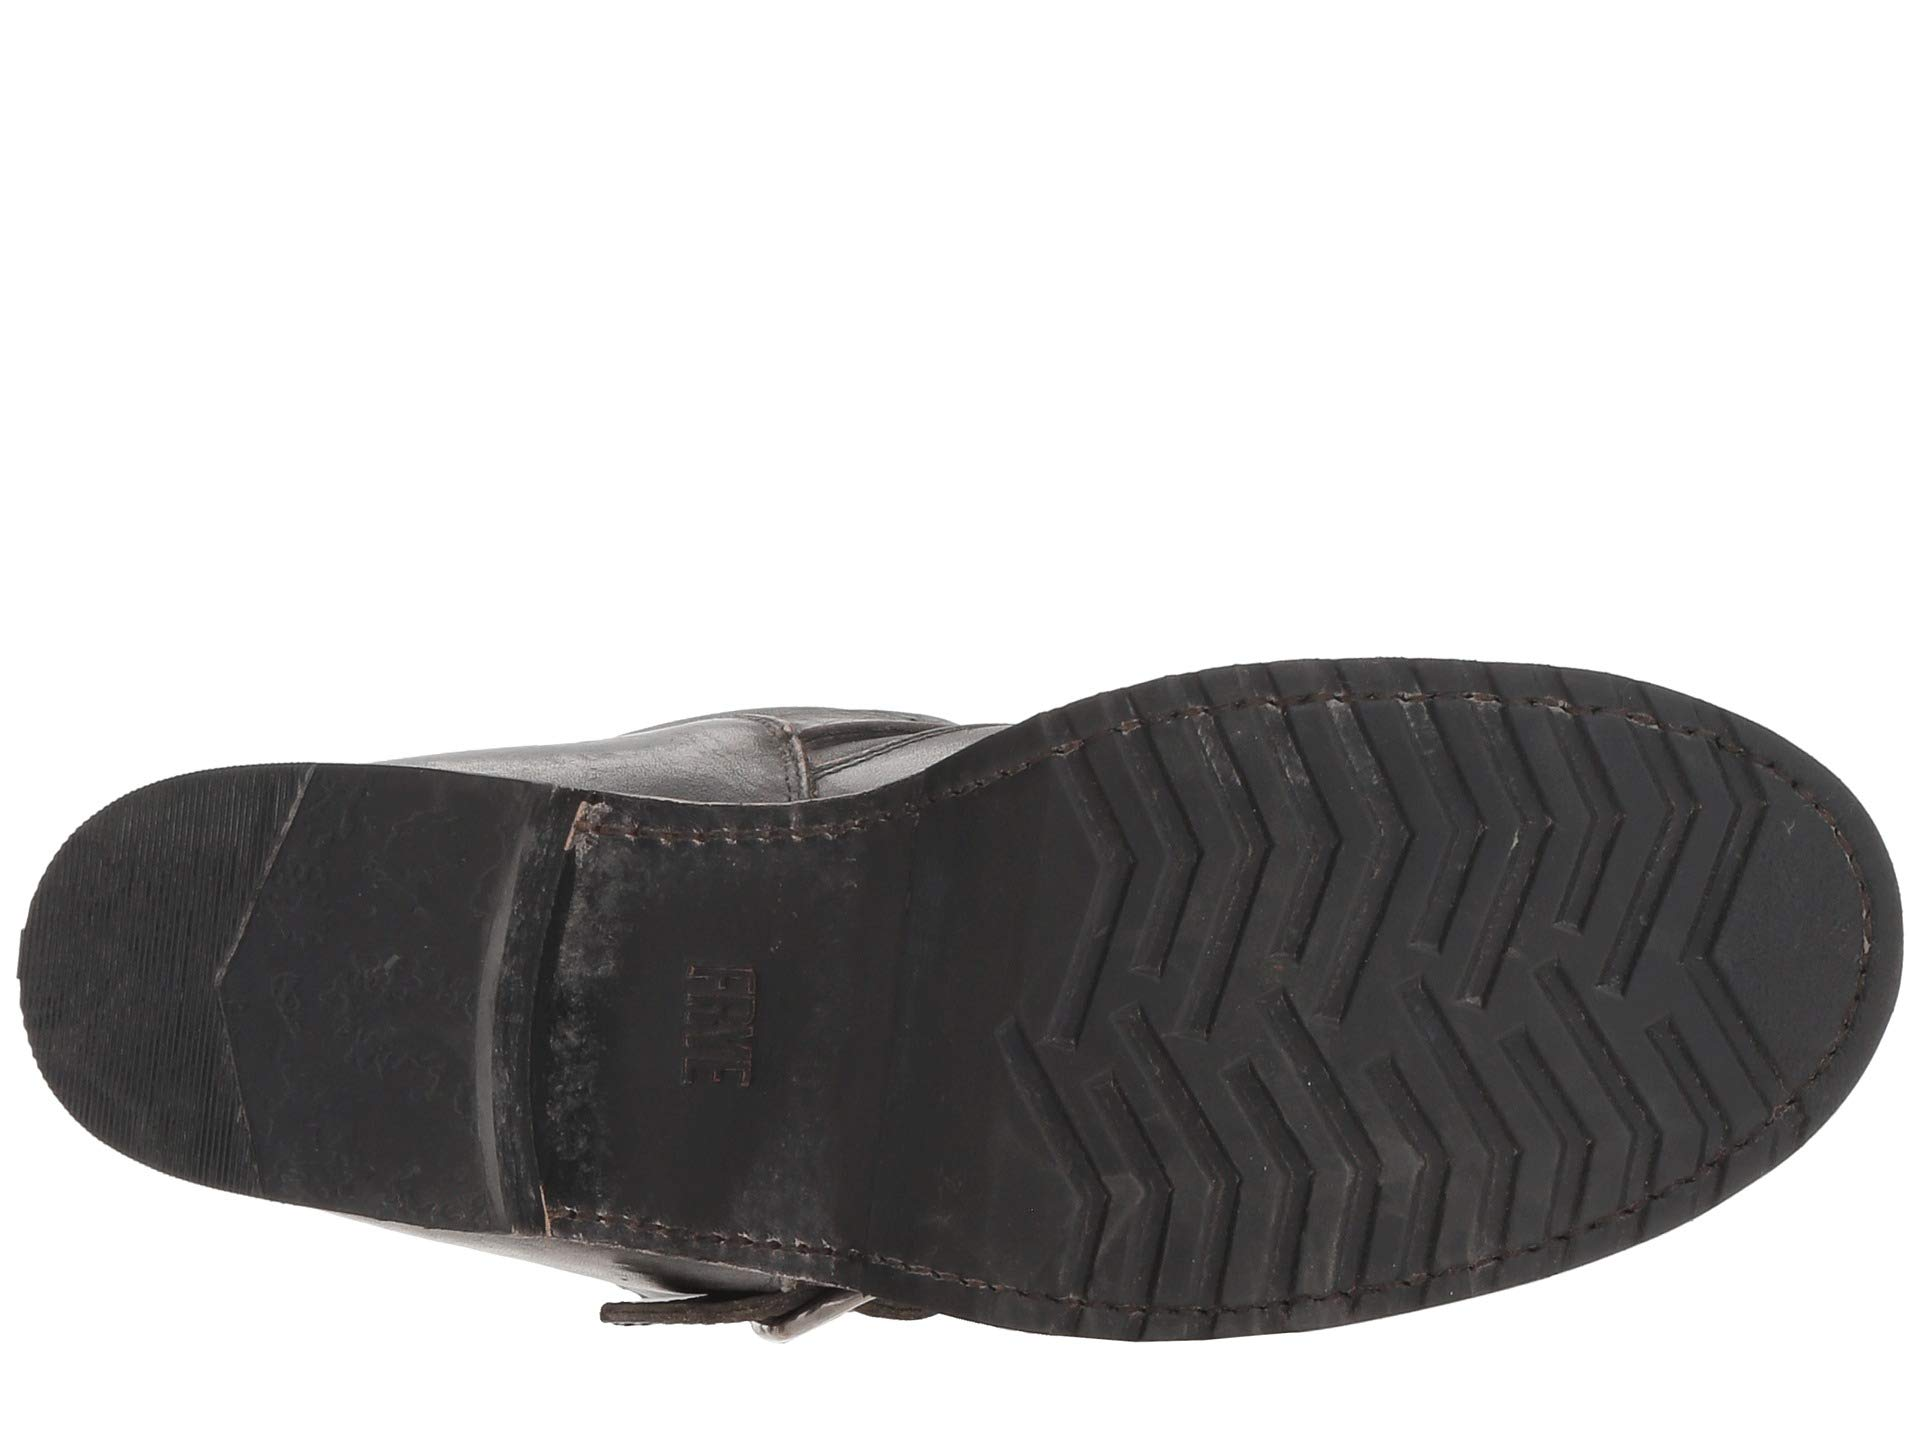chevron: (1138, 749, 1730, 1234), (160, 791, 354, 1177)
exclude: (481, 728, 1031, 1342)
line: (160, 791, 354, 1177)
